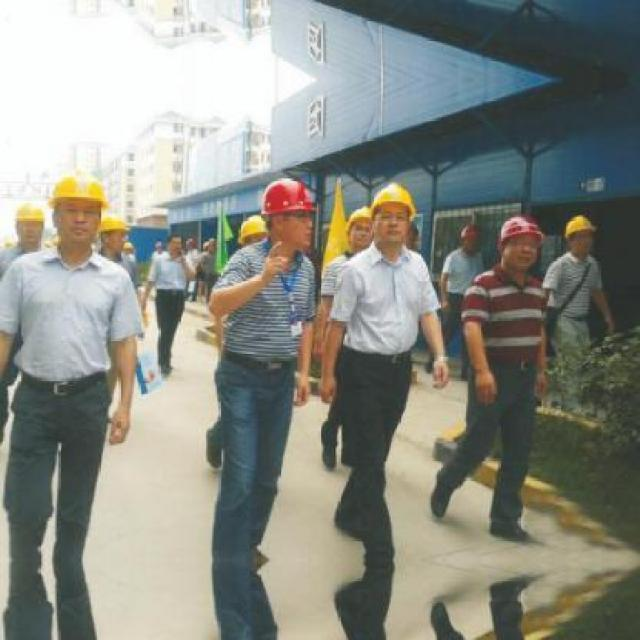hat: (260, 174, 322, 221), (48, 168, 113, 210), (363, 179, 423, 219), (492, 208, 545, 251), (234, 209, 269, 246), (97, 213, 128, 239), (14, 202, 45, 227), (563, 214, 595, 237)
